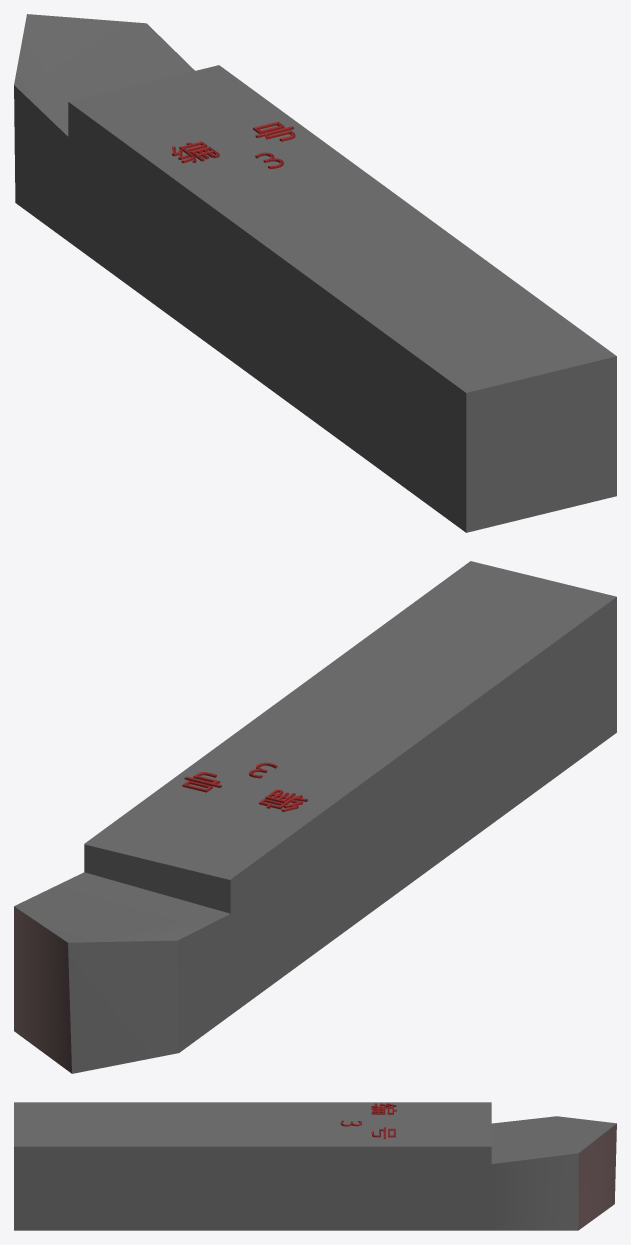
File: num03车刀.FBX
3 renders of one model, top to bottom at view 1: azimuth 30°, elevation 25°; view 2: azimuth 150°, elevation 25°; view 3: azimuth 270°, elevation 25°, orthographic. The views are drawn at different scales.
Visible parts, largest first — view 1: 操作车刀3; view 2: 操作车刀3; view 3: 操作车刀3.
Boxes of the visible parts, <box> form: 操作车刀3: <box>14,14,616,532</box>; 操作车刀3: <box>14,561,616,1073</box>; 操作车刀3: <box>14,1102,616,1230</box>.
Size of the model in its own units: 15.58 by 89.94 by 14.52.
